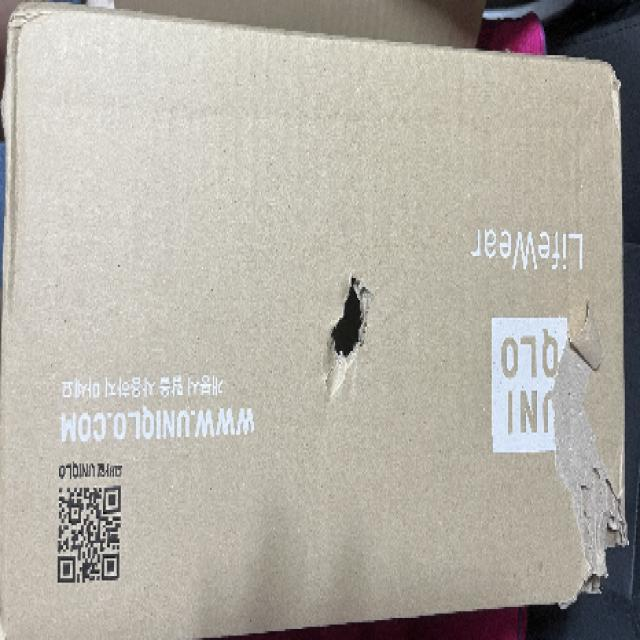hole: (532, 332, 640, 611), (321, 281, 376, 366)
